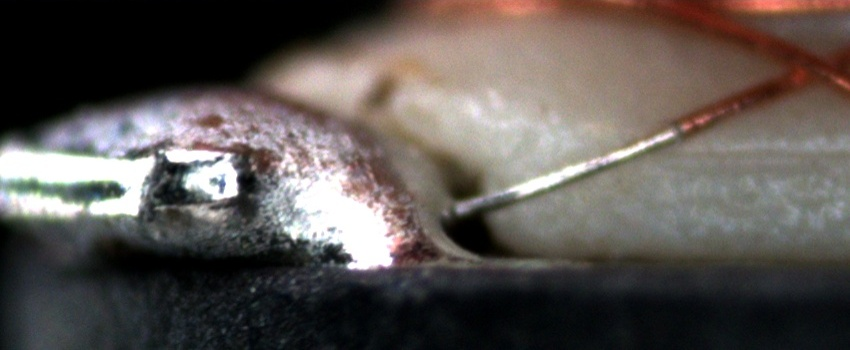CL: (769, 35, 842, 92)
DL: (621, 122, 850, 186)
TS: (451, 123, 682, 215)
